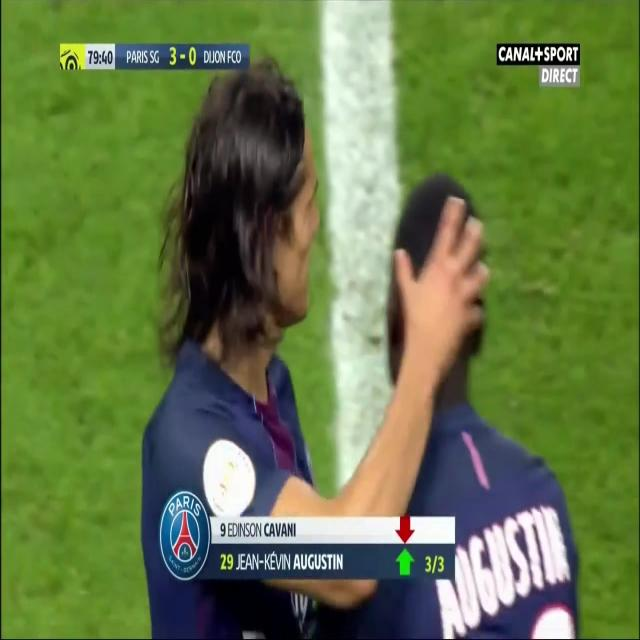Player: (143, 51, 491, 640), (322, 171, 584, 637)
